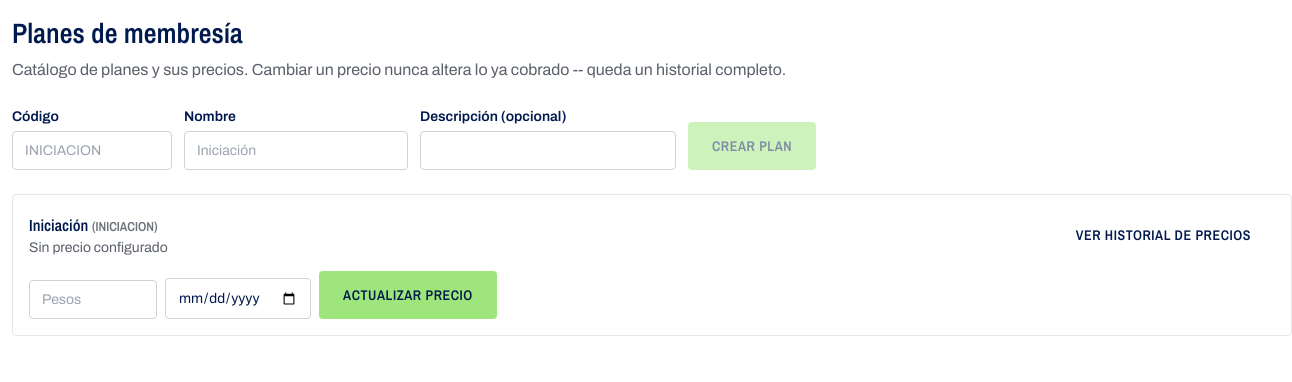
Test: PlansPage › sets a new price and shows a confirmation
The width and height of the screenshot is (1292, 382).
Expected: the text "Iniciación" is shown, x1=29 y1=214 x2=88 y2=236
Type "60000" into the number field named "Nuevo precio" at (93, 300), box x1=29 y1=280 x2=157 y2=319
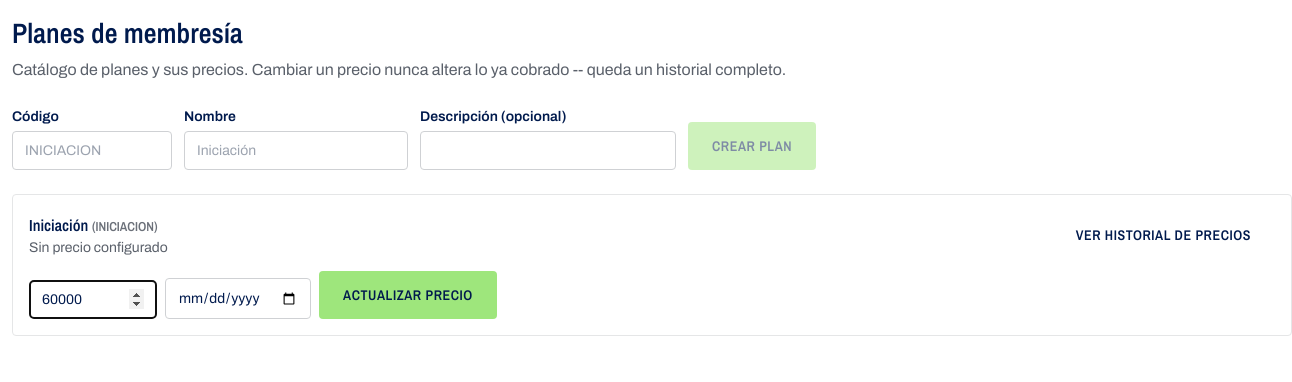
Type "2026-01-01" into the date field named "Vigente desde" at (238, 298), box x1=165 y1=278 x2=311 y2=319
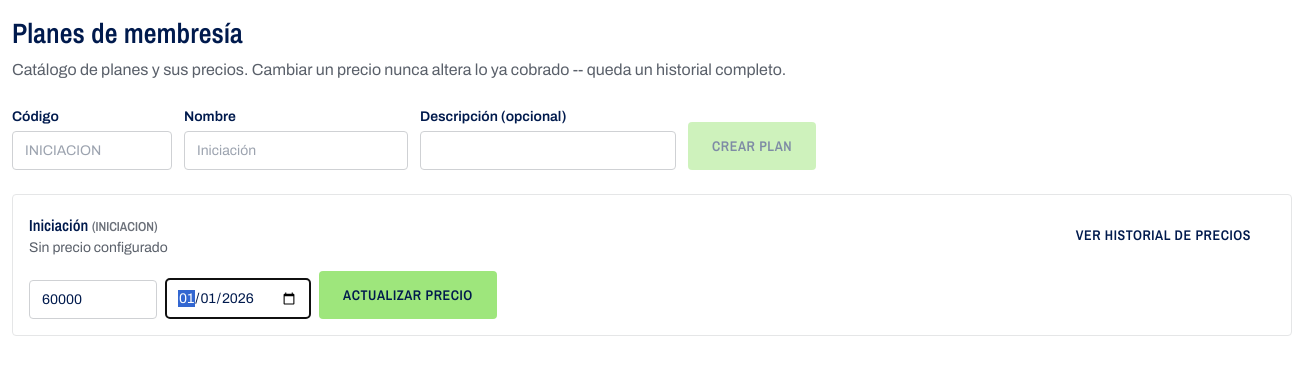
Click the button "Actualizar precio" at (408, 295), box x1=319 y1=271 x2=497 y2=319
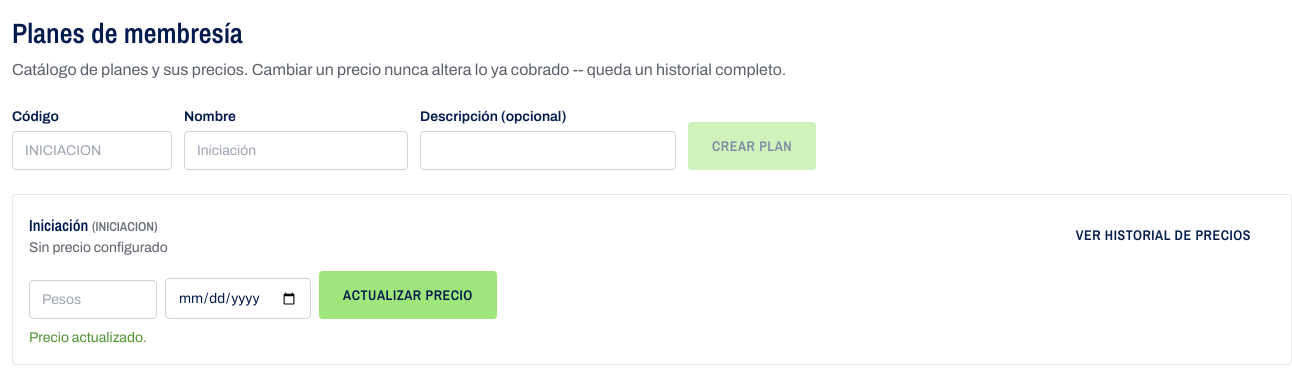
Expected: the text "Precio actualizado." is shown, x1=29 y1=330 x2=147 y2=345
